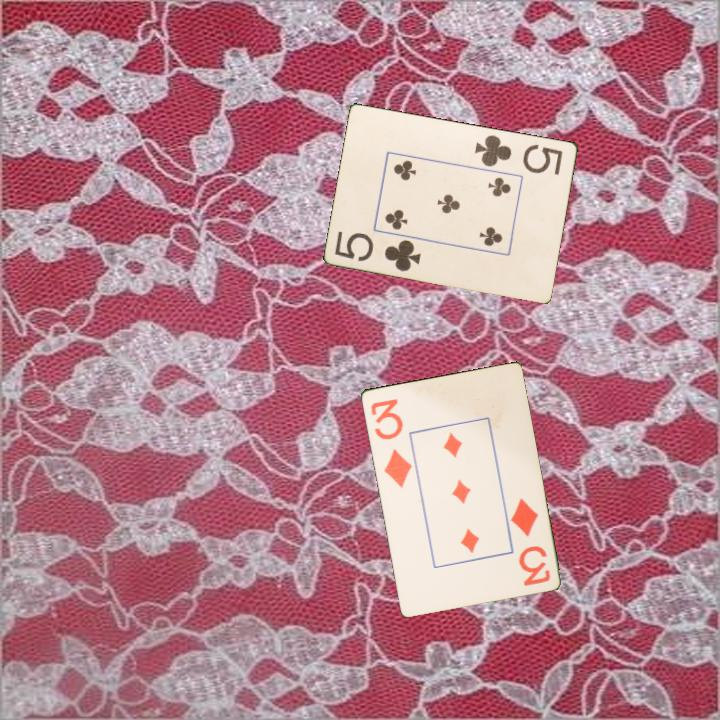3d: (367, 395, 415, 491), (507, 494, 553, 589)
5c: (331, 227, 424, 274), (471, 131, 566, 177)
